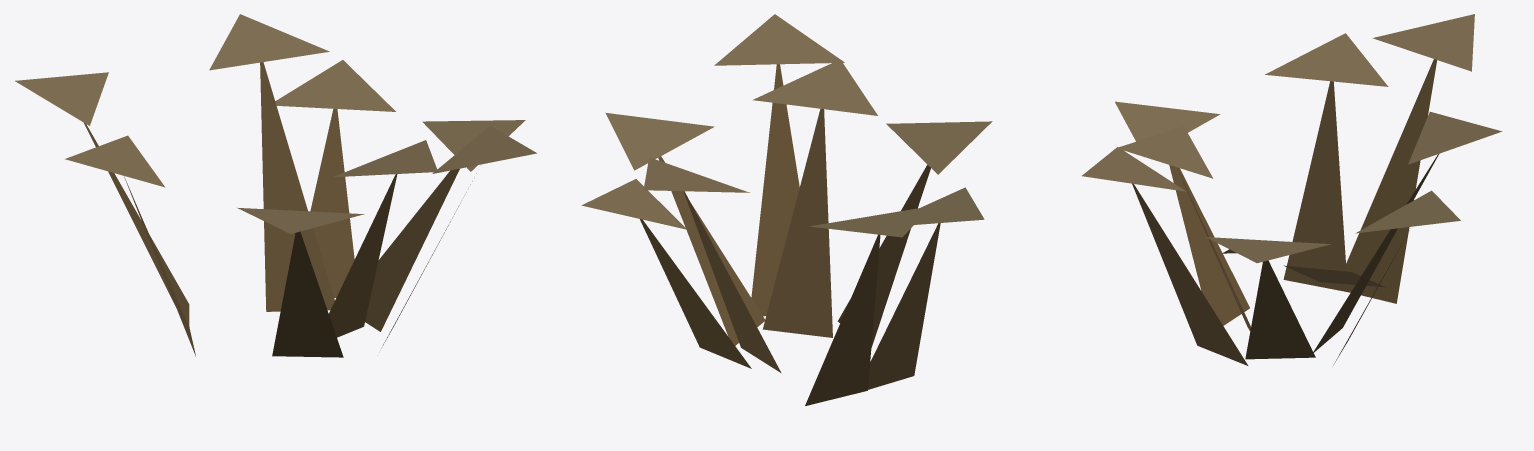
Rendered from plant_brambles_leafless_a.obj.
3 views of the same model, side by side, from view 1: azimuth 30°, elevation 25°; view 2: azimuth 150°, elevation 25°; view 3: azimuth 270°, elevation 25° (orthographic). The views are drawn at different scales.
Parts seen in each view (by area): view 1: plant_brambles_leafless_a_8, plant_brambles_leafless_a_14, plant_brambles_leafless_a_6, plant_brambles_leafless_a_4, plant_brambles_leafless_a_16, plant_brambles_leafless_a_7, plant_brambles_leafless_a_9, plant_brambles_leafless_a_11, plant_brambles_leafless_a_13, plant_brambles_leafless_a_19, plant_brambles_leafless_a_17, plant_brambles_leafless_a_5 (+3 smaller); view 2: plant_brambles_leafless_a_16, plant_brambles_leafless_a_18, plant_brambles_leafless_a_10, plant_brambles_leafless_a_12, plant_brambles_leafless_a_19, plant_brambles_leafless_a_17, plant_brambles_leafless_a_5, plant_brambles_leafless_a_6, plant_brambles_leafless_a_15, plant_brambles_leafless_a_8, plant_brambles_leafless_a_4, plant_brambles_leafless_a_14 (+4 smaller); view 3: plant_brambles_leafless_a_10, plant_brambles_leafless_a_12, plant_brambles_leafless_a_14, plant_brambles_leafless_a_4, plant_brambles_leafless_a_18, plant_brambles_leafless_a_13, plant_brambles_leafless_a_11, plant_brambles_leafless_a_15, plant_brambles_leafless_a_9, plant_brambles_leafless_a_17, plant_brambles_leafless_a_19, plant_brambles_leafless_a_7 (+3 smaller).
Part boxes in pixels (x1,y1,x2,y2): plant_brambles_leafless_a_8: (260, 62, 334, 311); plant_brambles_leafless_a_14: (272, 231, 343, 357); plant_brambles_leafless_a_6: (310, 108, 354, 298); plant_brambles_leafless_a_4: (365, 168, 459, 331); plant_brambles_leafless_a_16: (329, 174, 397, 337); plant_brambles_leafless_a_7: (275, 60, 395, 111); plant_brambles_leafless_a_9: (209, 14, 329, 70); plant_brambles_leafless_a_11: (15, 72, 108, 125); plant_brambles_leafless_a_13: (65, 135, 165, 187); plant_brambles_leafless_a_19: (432, 126, 536, 173); plant_brambles_leafless_a_17: (333, 140, 437, 177); plant_brambles_leafless_a_5: (422, 120, 525, 171); plant_brambles_leafless_a_16: (762, 108, 832, 337); plant_brambles_leafless_a_18: (751, 64, 799, 316); plant_brambles_leafless_a_10: (805, 234, 880, 405); plant_brambles_leafless_a_12: (868, 223, 940, 389); plant_brambles_leafless_a_19: (714, 14, 844, 65); plant_brambles_leafless_a_17: (752, 59, 877, 115); plant_brambles_leafless_a_5: (605, 112, 714, 170); plant_brambles_leafless_a_6: (640, 219, 751, 368); plant_brambles_leafless_a_15: (886, 121, 992, 174); plant_brambles_leafless_a_8: (683, 191, 781, 373); plant_brambles_leafless_a_4: (658, 156, 764, 345); plant_brambles_leafless_a_14: (837, 165, 930, 347); plant_brambles_leafless_a_10: (1346, 59, 1437, 303); plant_brambles_leafless_a_12: (1283, 81, 1347, 292); plant_brambles_leafless_a_14: (1169, 165, 1249, 325); plant_brambles_leafless_a_4: (1245, 260, 1315, 359); plant_brambles_leafless_a_18: (1132, 183, 1248, 365); plant_brambles_leafless_a_13: (1265, 33, 1388, 86); plant_brambles_leafless_a_11: (1372, 14, 1474, 71); plant_brambles_leafless_a_15: (1115, 101, 1220, 141); plant_brambles_leafless_a_9: (1408, 111, 1502, 164); plant_brambles_leafless_a_17: (1116, 126, 1213, 178); plant_brambles_leafless_a_19: (1082, 147, 1186, 191); plant_brambles_leafless_a_7: (1355, 190, 1460, 233).
Size of the model in its own units: 0.6868 by 0.35 by 0.6911.
